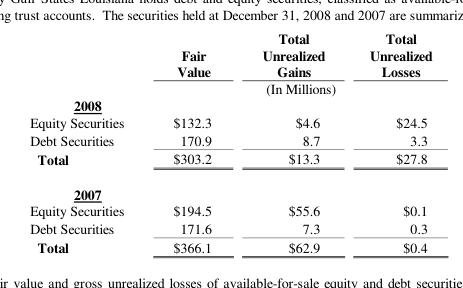table: (29, 28, 431, 256)
table column: (29, 28, 147, 256), (236, 28, 346, 256), (147, 28, 236, 256), (346, 28, 431, 256)
table column header: (29, 28, 431, 96)
table projected row header: (29, 176, 431, 202), (29, 96, 431, 113)
table row: (29, 28, 431, 80), (29, 148, 431, 176), (29, 176, 431, 202), (29, 218, 431, 237), (29, 237, 431, 256), (29, 130, 431, 148), (29, 96, 431, 113), (29, 113, 431, 130), (29, 80, 431, 96), (29, 202, 431, 218)
table spanning cell: (147, 80, 431, 96)
